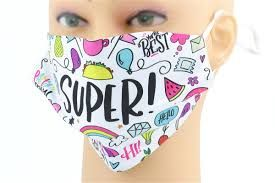with-mask: (31, 1, 240, 174)
